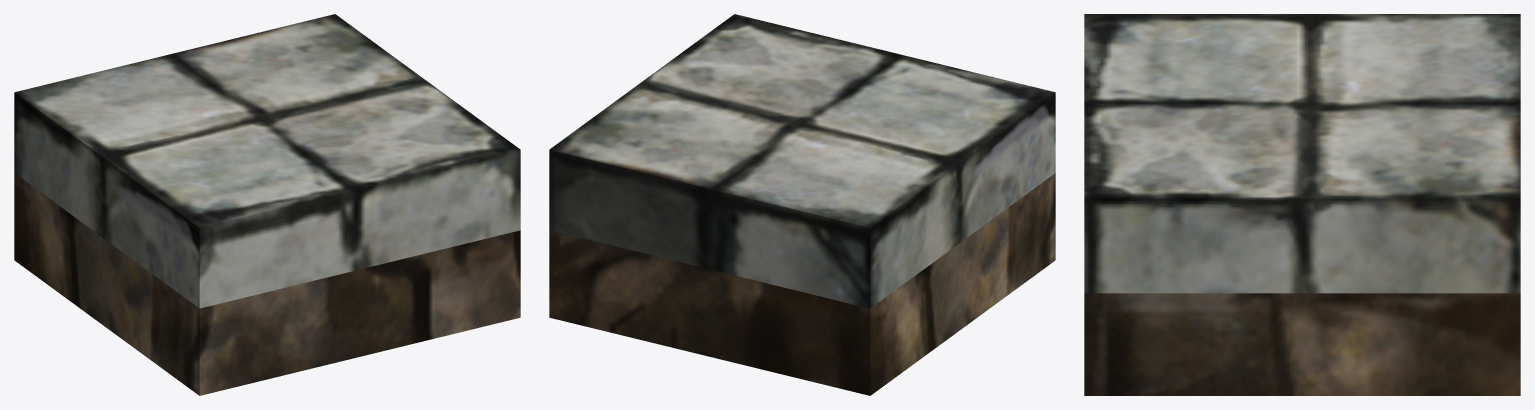
The model's file is STR_FloorTileSmall.FBX.
3 views of the same model, side by side, from view 1: azimuth 30°, elevation 25°; view 2: azimuth 150°, elevation 25°; view 3: azimuth 270°, elevation 25° (orthographic). The views are drawn at different scales.
Visible parts, largest first — view 1: STR_FloorTileSmall; view 2: STR_FloorTileSmall; view 3: STR_FloorTileSmall.
Part boxes in pixels (x1,y1,x2,y2): STR_FloorTileSmall: [14, 14, 520, 395]; STR_FloorTileSmall: [549, 14, 1055, 395]; STR_FloorTileSmall: [1084, 14, 1520, 395].
Size of the model in its own units: 200 by 100 by 200.
